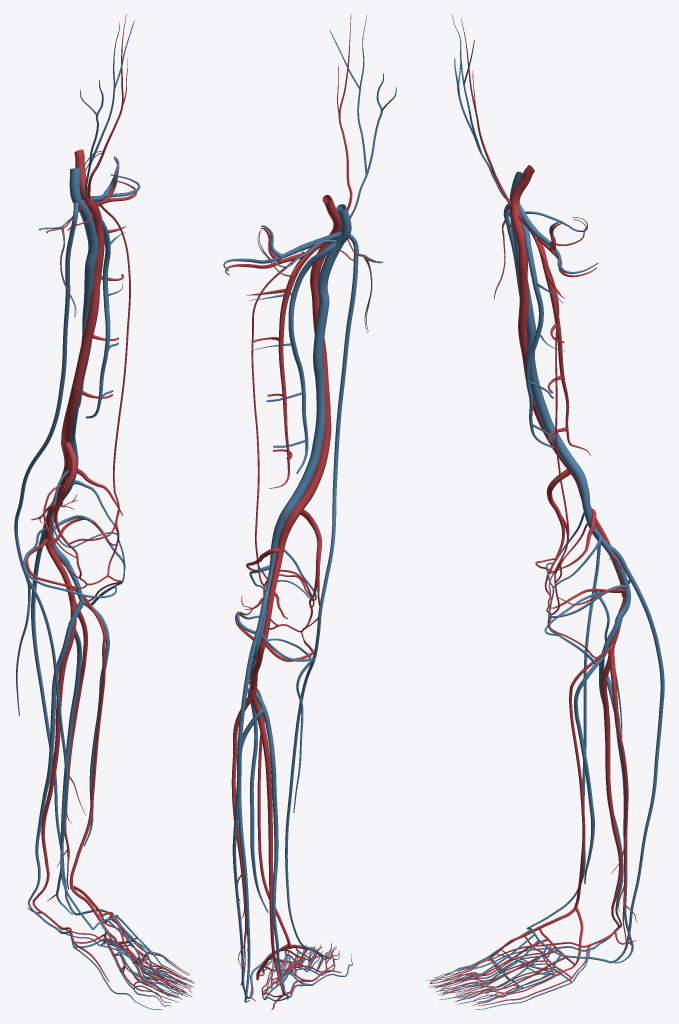
The model's file is detail-circulatory-left-lower-limb.glb.
3 renders of one model, left to right at view 1: azimuth 30°, elevation 25°; view 2: azimuth 150°, elevation 25°; view 3: azimuth 270°, elevation 25°, orthographic. The views are drawn at different scales.
Parts seen in each view (by area): view 1: za-cd186f33855f1ff5, za-6fd64f7cd4279006, za-f52c5f6a057f2d86, za-9ba7f983781aec90, za-be9aa94fb6983224, za-9e4b050364201039, za-3d877e0935b9c69b, za-e4ccc1cbc4170f8b, za-f8e604442732ab99, za-d34b94ad00d274e1, za-0df012f0f69ac1a6, za-053c21126bbc80e1 (+12 smaller); view 2: za-cd186f33855f1ff5, za-f52c5f6a057f2d86, za-6fd64f7cd4279006, za-9e4b050364201039, za-9ba7f983781aec90, za-be9aa94fb6983224, za-d34b94ad00d274e1, za-768f60e6dbb0fa07, za-389e18d68d266430, za-f8e604442732ab99, za-053c21126bbc80e1, za-55d2f039f361f7cf (+9 smaller); view 3: za-6fd64f7cd4279006, za-f52c5f6a057f2d86, za-9e4b050364201039, za-cd186f33855f1ff5, za-be9aa94fb6983224, za-053c21126bbc80e1, za-55d2f039f361f7cf, za-d34b94ad00d274e1, za-3d877e0935b9c69b, za-6f91348b186fcf1b, za-389e18d68d266430, za-e4ccc1cbc4170f8b (+10 smaller).
Part boxes in pixels (<box>): za-cd186f33855f1ff5: <box>14,202,93,930</box>; za-6fd64f7cd4279006: <box>61,149,104,445</box>; za-f52c5f6a057f2d86: <box>69,167,98,439</box>; za-9ba7f983781aec90: <box>28,600,83,928</box>; za-be9aa94fb6983224: <box>32,598,76,924</box>; za-9e4b050364201039: <box>31,501,92,915</box>; za-3d877e0935b9c69b: <box>23,470,125,605</box>; za-e4ccc1cbc4170f8b: <box>69,588,106,886</box>; za-f8e604442732ab99: <box>56,623,81,914</box>; za-d34b94ad00d274e1: <box>86,217,110,418</box>; za-0df012f0f69ac1a6: <box>43,442,79,578</box>; za-053c21126bbc80e1: <box>56,602,87,889</box>; za-cd186f33855f1ff5: <box>285,234,358,951</box>; za-f52c5f6a057f2d86: <box>286,204,351,509</box>; za-6fd64f7cd4279006: <box>292,195,341,515</box>; za-9e4b050364201039: <box>232,589,268,998</box>; za-9ba7f983781aec90: <box>250,688,288,999</box>; za-be9aa94fb6983224: <box>251,692,288,995</box>; za-d34b94ad00d274e1: <box>288,242,335,473</box>; za-768f60e6dbb0fa07: <box>250,512,298,692</box>; za-389e18d68d266430: <box>269,242,328,488</box>; za-f8e604442732ab99: <box>237,708,264,1002</box>; za-053c21126bbc80e1: <box>231,691,254,985</box>; za-55d2f039f361f7cf: <box>247,665,268,912</box>; za-6fd64f7cd4279006: <box>510,165,573,475</box>; za-f52c5f6a057f2d86: <box>509,171,579,472</box>; za-9e4b050364201039: <box>590,545,664,963</box>; za-cd186f33855f1ff5: <box>503,203,622,927</box>; za-be9aa94fb6983224: <box>591,654,622,945</box>; za-053c21126bbc80e1: <box>609,654,637,945</box>; za-55d2f039f361f7cf: <box>574,622,620,884</box>; za-d34b94ad00d274e1: <box>522,223,553,448</box>; za-3d877e0935b9c69b: <box>544,512,630,664</box>; za-6f91348b186fcf1b: <box>572,467,630,622</box>; za-389e18d68d266430: <box>517,211,590,456</box>; za-e4ccc1cbc4170f8b: <box>569,644,613,906</box>.
Size of the model in its own units: 0.1471 by 1.06 by 0.2404.
